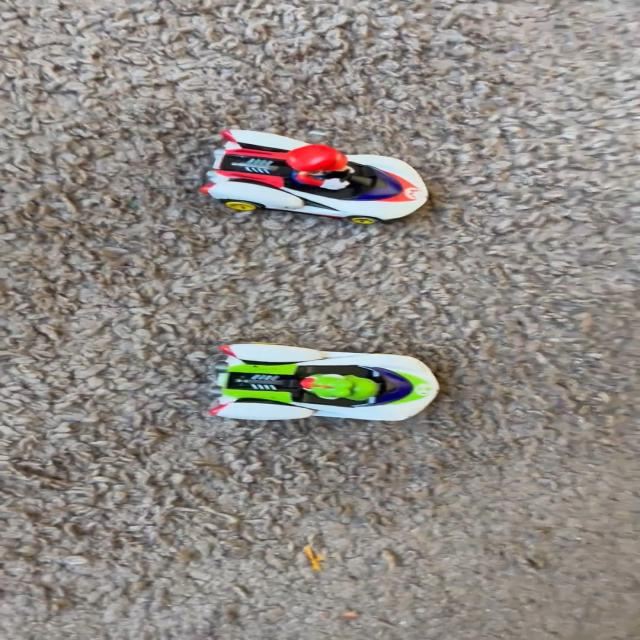mario: (194, 117, 446, 227)
yoshi: (206, 342, 461, 433)
